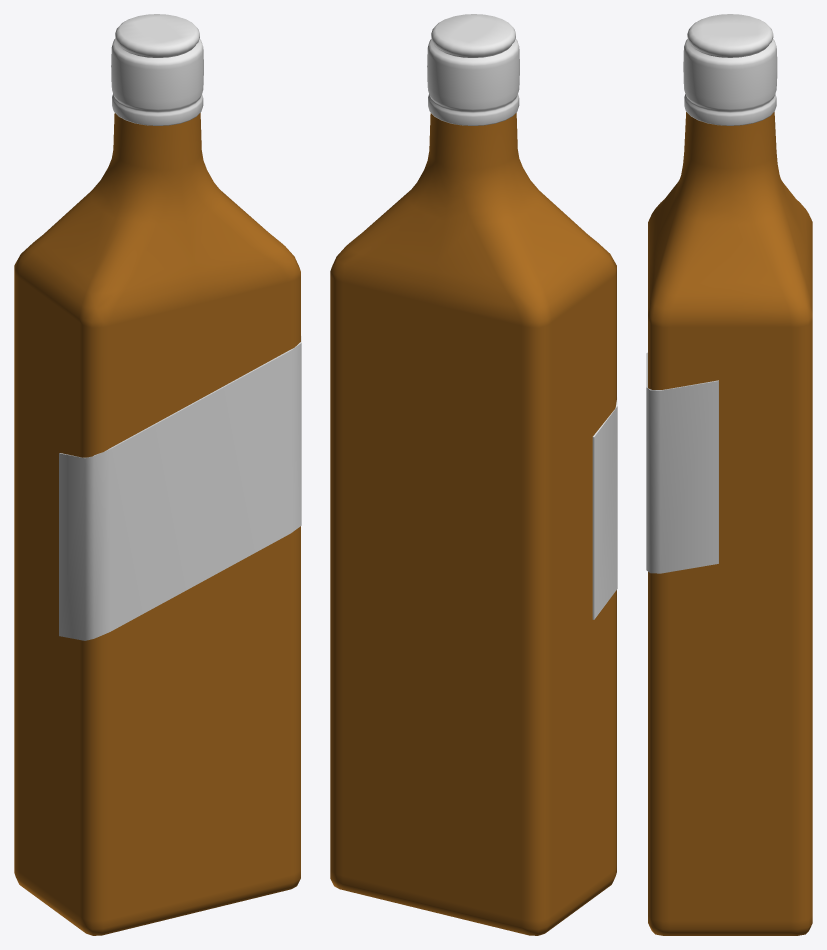
Rendered from MESH_Bottle_A.fbx.
3 views of the same model, side by side, from view 1: azimuth 30°, elevation 25°; view 2: azimuth 150°, elevation 25°; view 3: azimuth 270°, elevation 25° (orthographic).
Visible parts, largest first — view 1: Bottle_A; view 2: Bottle_A; view 3: Bottle_A.
Boxes of the visible parts, <box> form: Bottle_A: <box>14,14,301,935</box>; Bottle_A: <box>330,14,617,935</box>; Bottle_A: <box>646,14,812,935</box>.
Bounding box in the file's own units: 14 × 52.3 × 9.2.
